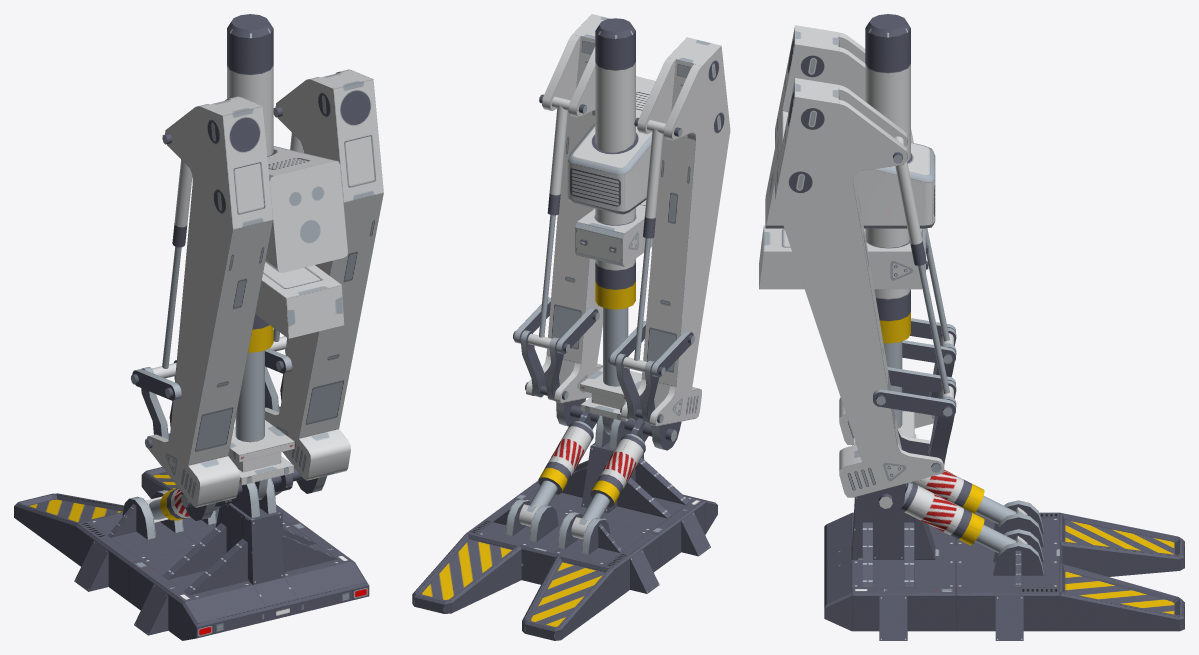
File: Gear_02.FBX
3 views of the same model, side by side, from view 1: azimuth 30°, elevation 25°; view 2: azimuth 150°, elevation 25°; view 3: azimuth 270°, elevation 25° (orthographic). The views are drawn at different scales.
Parts seen in each view (by area): view 1: Gear, Foot; view 2: Gear, Foot; view 3: Gear, Foot.
Boxes of the visible parts, x1=… form: Gear: x1=131, y1=14, x2=383, y2=520; Foot: x1=14, y1=467, x2=369, y2=640; Gear: x1=513, y1=14, x2=730, y2=450; Foot: x1=412, y1=411, x2=717, y2=640; Gear: x1=759, y1=14, x2=956, y2=517; Foot: x1=824, y1=470, x2=1184, y2=640.
Bounding box in the file's own units: 17.26 × 45.25 × 30.71.
3 materials, 3 textured.
